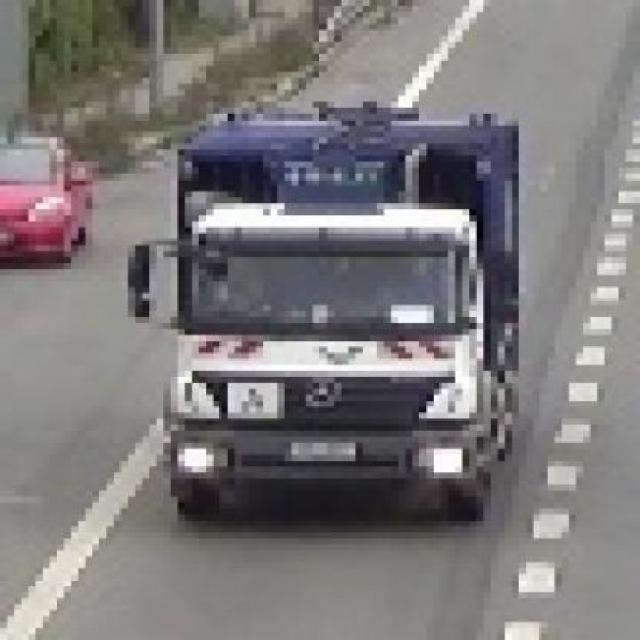truck: (136, 91, 534, 522)
